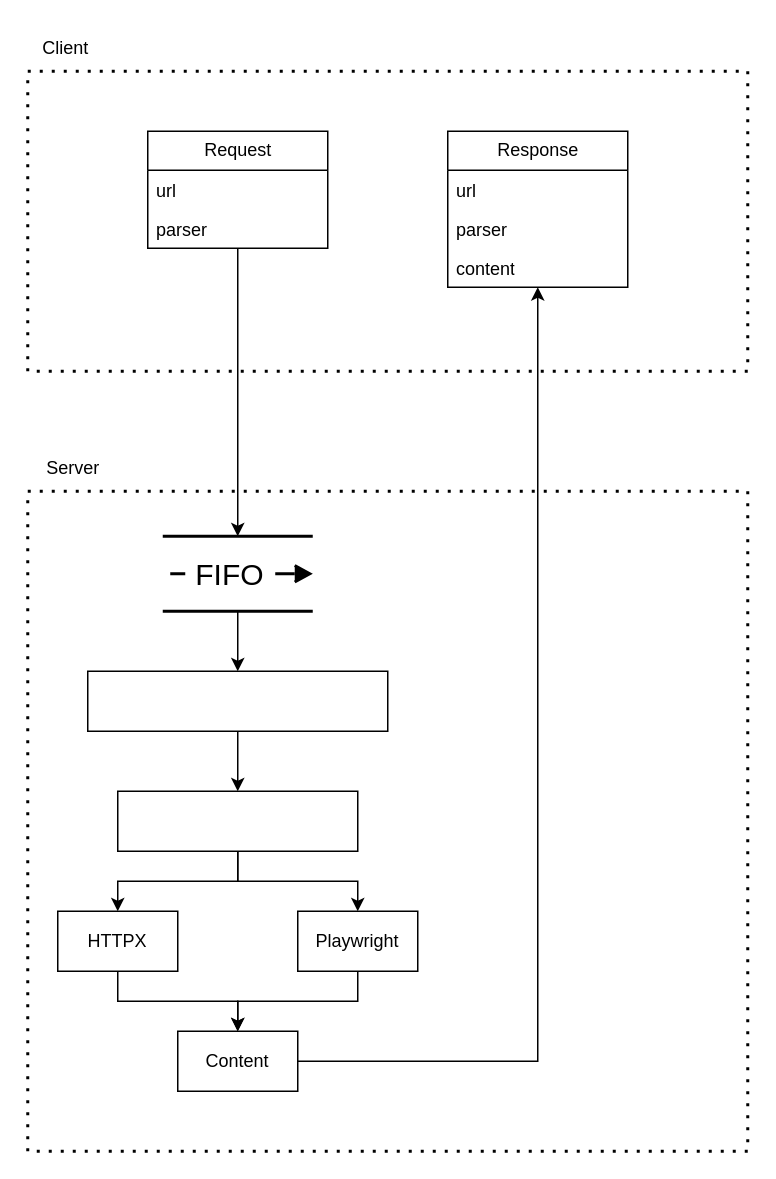
Some shapes in this 776 by 1179 pixel diagram are drawn without their labels. The shapes that lost their labels are listed below. From the top down, each one's centre as x and y in pixels, then its label:
At (x=237, y=700): "CHUNK = 5 dynamic Browser Pages Count".
At (x=237, y=820): "Web Content Loader".
